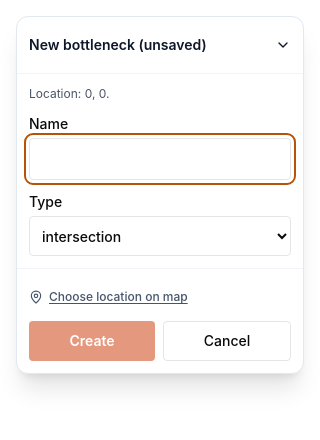
Test: failed bottleneck POST keeps an unsaved draft without adding a marker
Type "Draft" into the field labelled "Name" at (160, 159), box [29, 138, 291, 180]
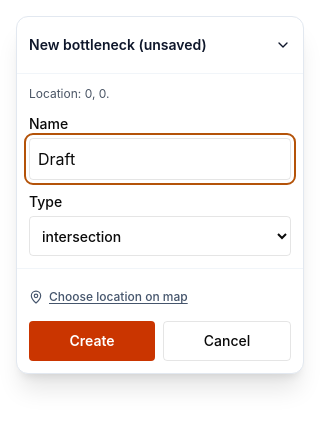
Click the button "Create" at (92, 341), box [29, 321, 155, 361]
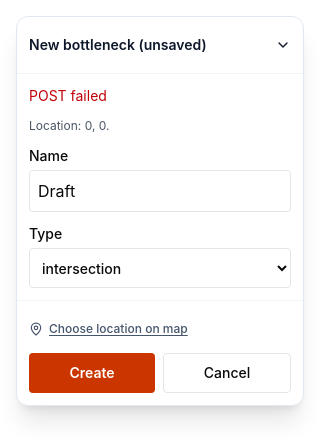
Expected: the text "New bottleneck (unsaved)" is shown, [29, 35, 207, 55]
Result: the message reads "POST failed" at [29, 87, 107, 104]
